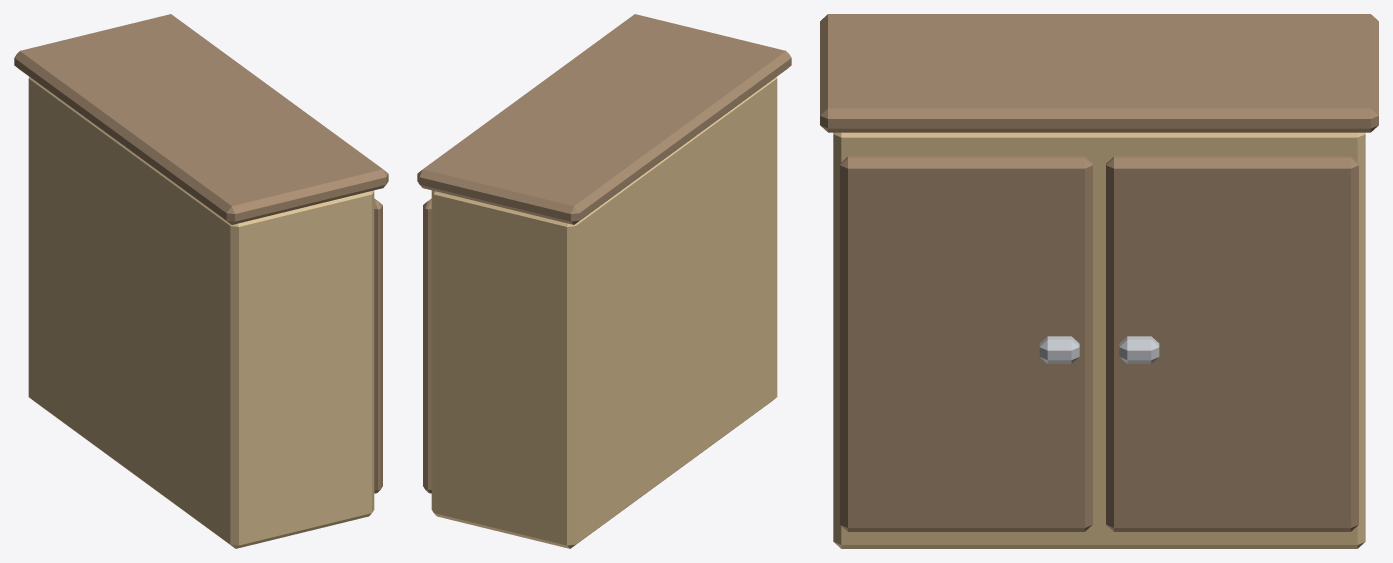
The picture shows the model from 3 angles, left to right: view 1: azimuth 30°, elevation 25°; view 2: azimuth 150°, elevation 25°; view 3: azimuth 270°, elevation 25°; orthographic projection. The views are drawn at different scales.
Parts seen in each view (by area): view 1: 柜体.006, 顶板.002, 门板.003; view 2: 柜体.006, 顶板.002, 门板.003; view 3: 门板.003, 顶板.002, 柜体.006, 把手.004.
Part boxes in pixels (x1=…): 柜体.006: x1=28, y1=77, x2=374, y2=548; 顶板.002: x1=14, y1=14, x2=388, y2=224; 门板.003: x1=374, y1=198, x2=382, y2=493; 柜体.006: x1=431, y1=77, x2=777, y2=548; 顶板.002: x1=417, y1=14, x2=791, y2=224; 门板.003: x1=423, y1=198, x2=431, y2=493; 门板.003: x1=840, y1=156, x2=1358, y2=531; 顶板.002: x1=820, y1=14, x2=1378, y2=132; 柜体.006: x1=833, y1=132, x2=1365, y2=548; 把手.004: x1=1039, y1=336, x2=1159, y2=363.
Bounding box in the file's own units: 39 × 74 × 84.
